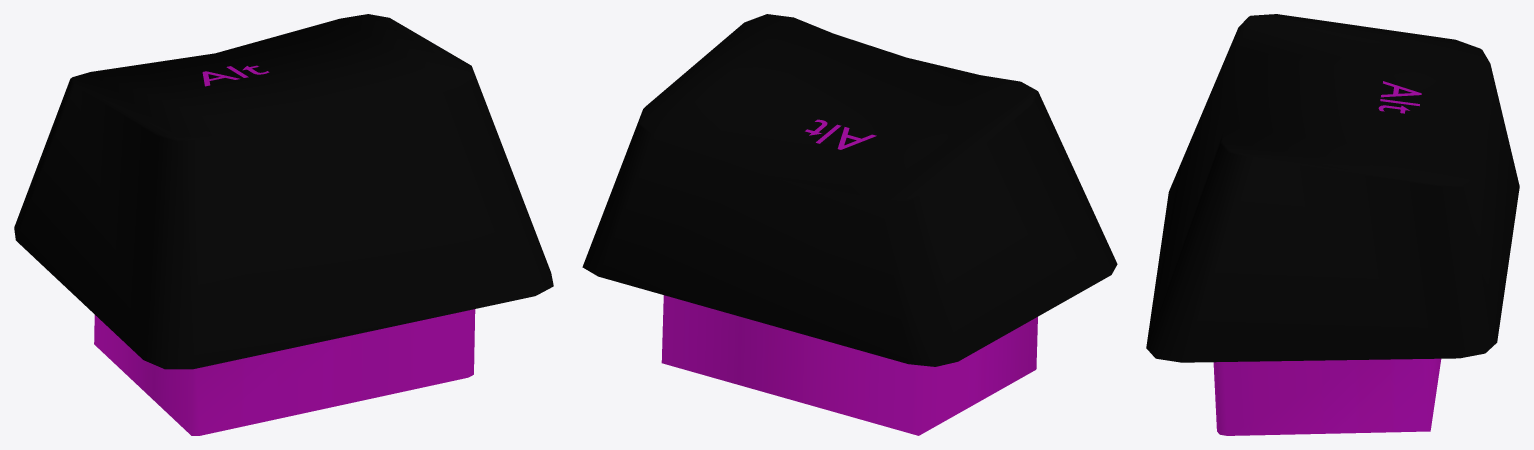
File: leftalt-dan2_-5M.glb
3 renders of one model, left to right at view 1: azimuth 30°, elevation 25°; view 2: azimuth 150°, elevation 25°; view 3: azimuth 270°, elevation 25°, orthographic. The views are drawn at different scales.
Visible parts, largest first — view 1: StudyShelf_1051; view 2: StudyShelf_1051; view 3: StudyShelf_1051.
Part boxes in pixels (x1,y1,x2,y2): StudyShelf_1051: (14, 14, 553, 435); StudyShelf_1051: (582, 14, 1117, 435); StudyShelf_1051: (1146, 14, 1519, 435).
Size of the model in its own units: 5.45 by 3.75 by 4.41.
Materials: 2 (1 with a texture image).
